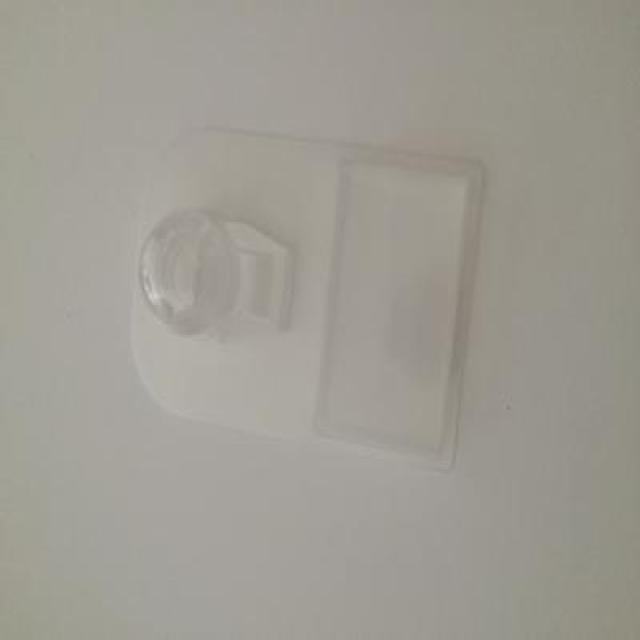plastic: (120, 108, 493, 490)
